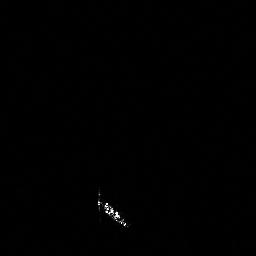ship: (93, 185, 131, 230)
